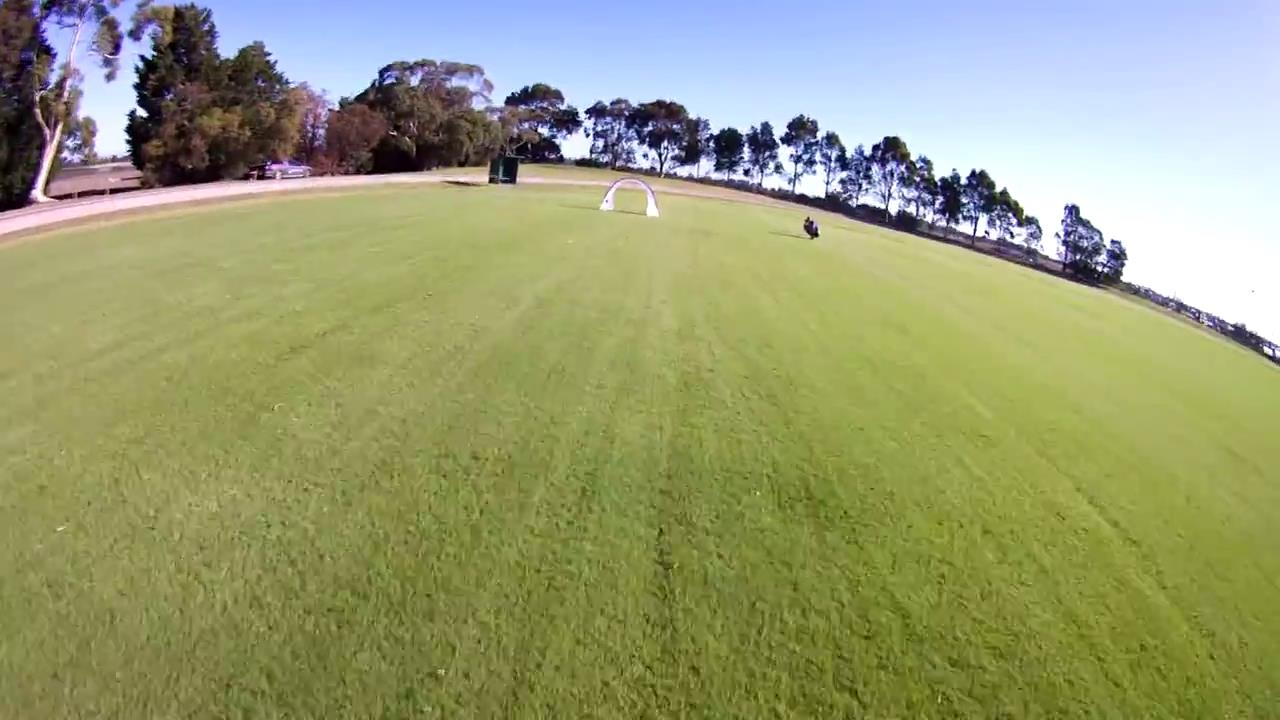gate: (597, 176, 662, 218)
